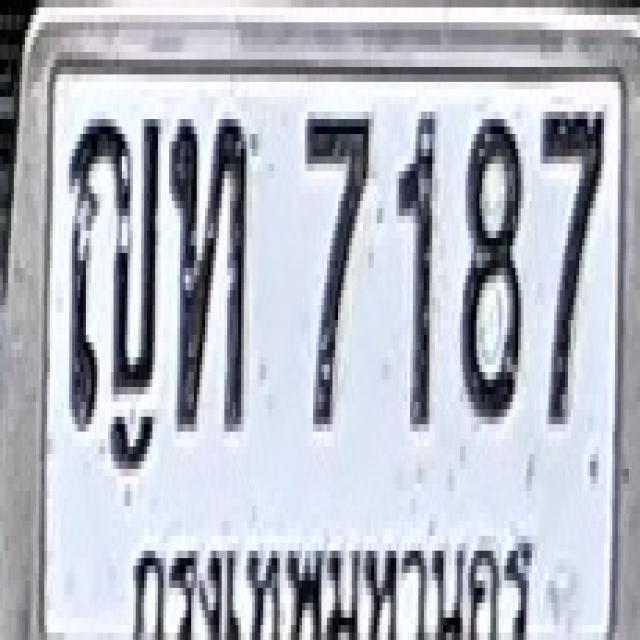-: (66, 111, 160, 432), (170, 111, 248, 432)
1: (396, 108, 435, 428)
7: (305, 108, 371, 428), (540, 104, 604, 424)
8: (460, 108, 521, 420)
BKK: (125, 501, 538, 640)
